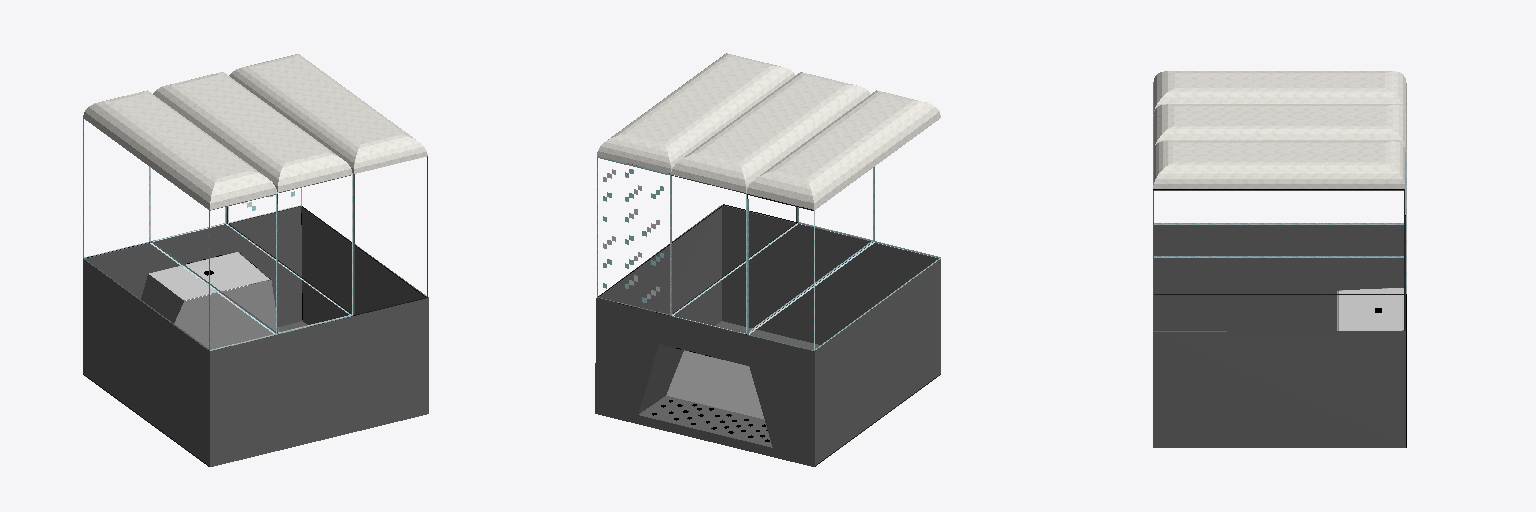
3 renders of one model, left to right at view 1: azimuth 30°, elevation 25°; view 2: azimuth 150°, elevation 25°; view 3: azimuth 270°, elevation 25°, orthographic.
Parts seen in each view (by area): view 1: Cube; view 2: Cube; view 3: Cube.
Boxes of the visible parts, x1,y1,x2,y2 form: Cube: [83, 54, 428, 466]; Cube: [595, 53, 940, 466]; Cube: [1153, 71, 1406, 447].
Bounding box in the file's own units: 2 × 2.41 × 2.
Materials: 1 (1 with a texture image).